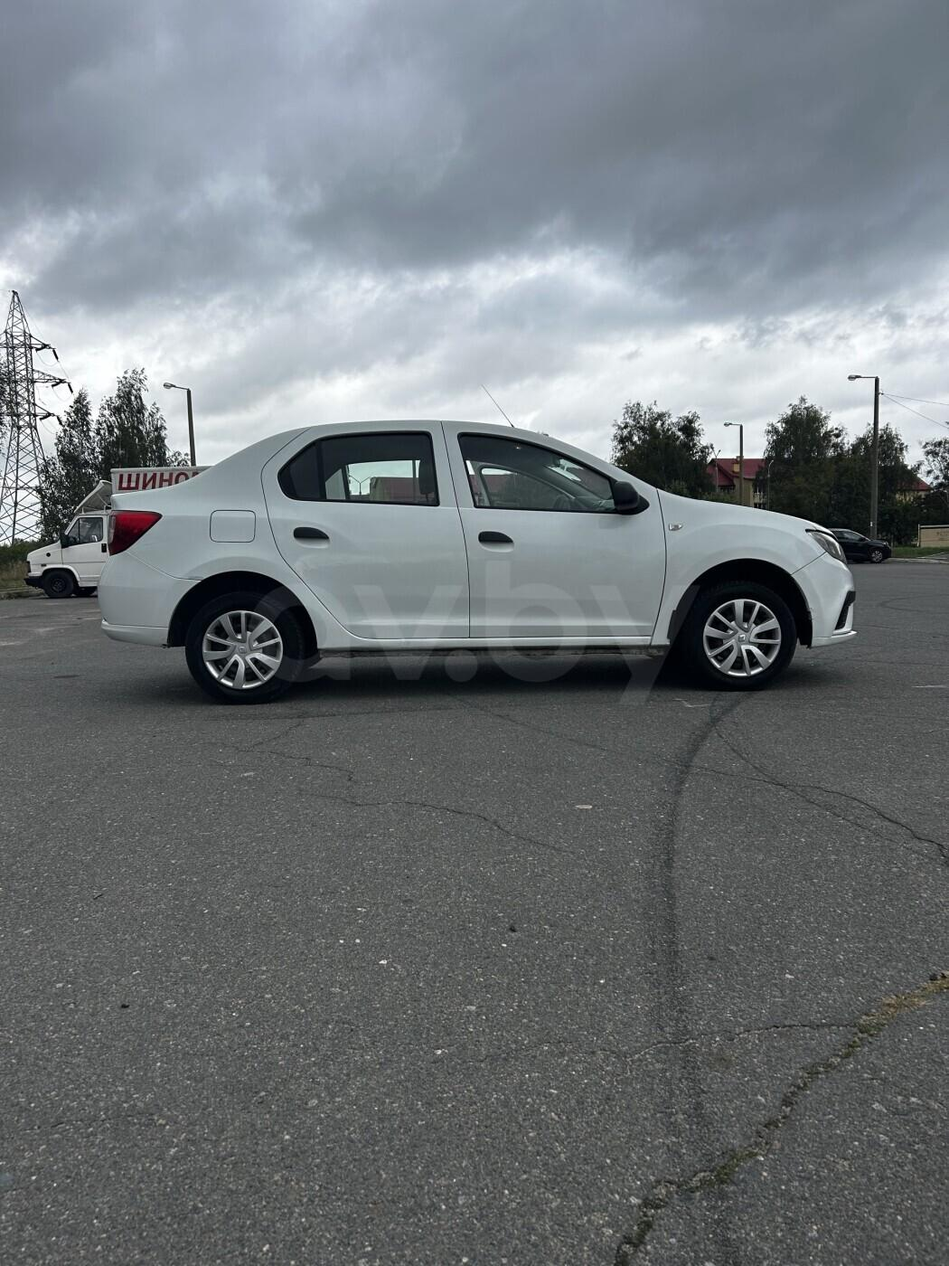Logan_2018: (90, 418, 866, 713)
